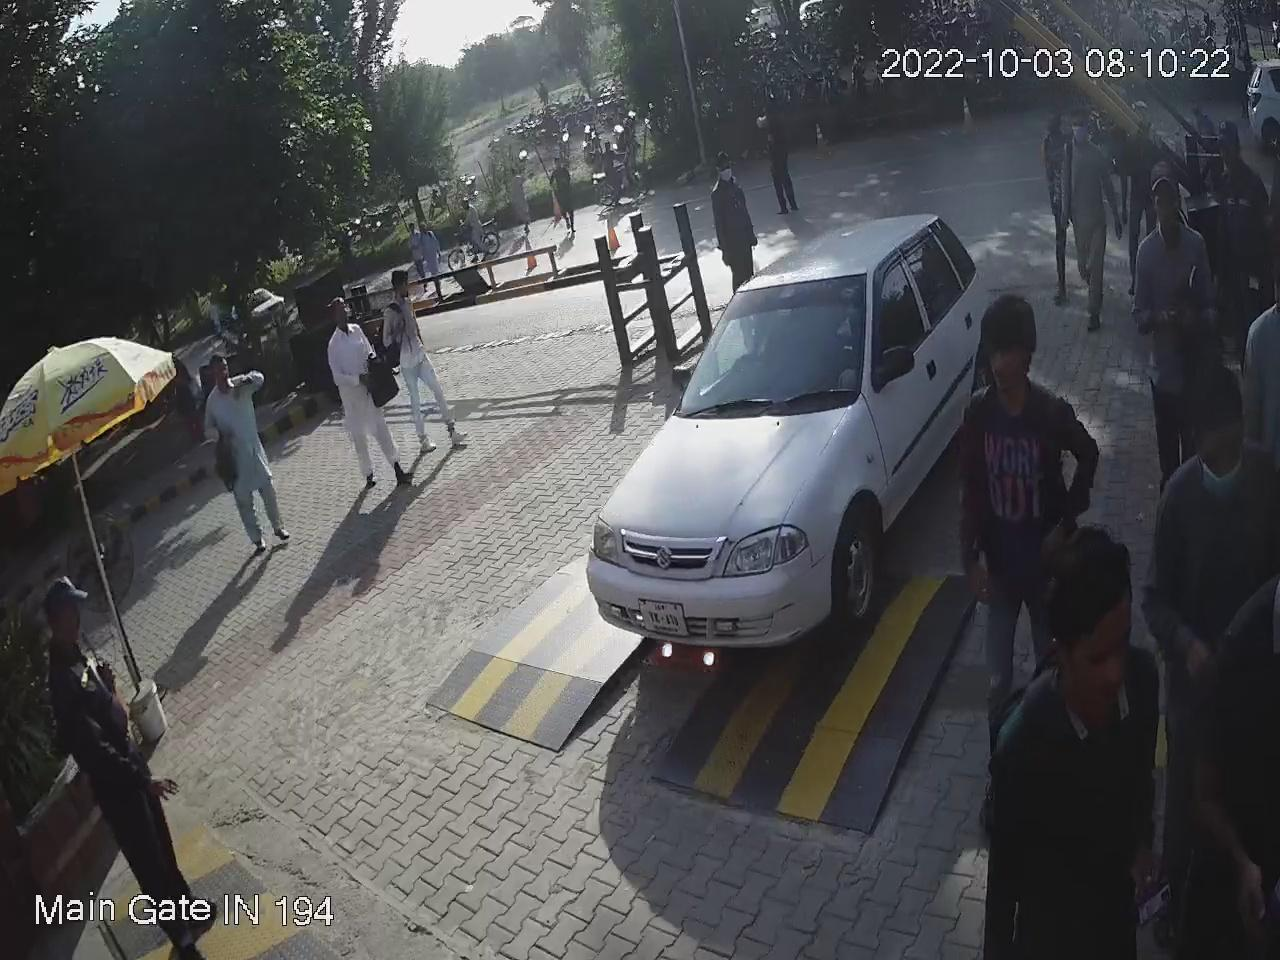windshield: (668, 262, 895, 428)
